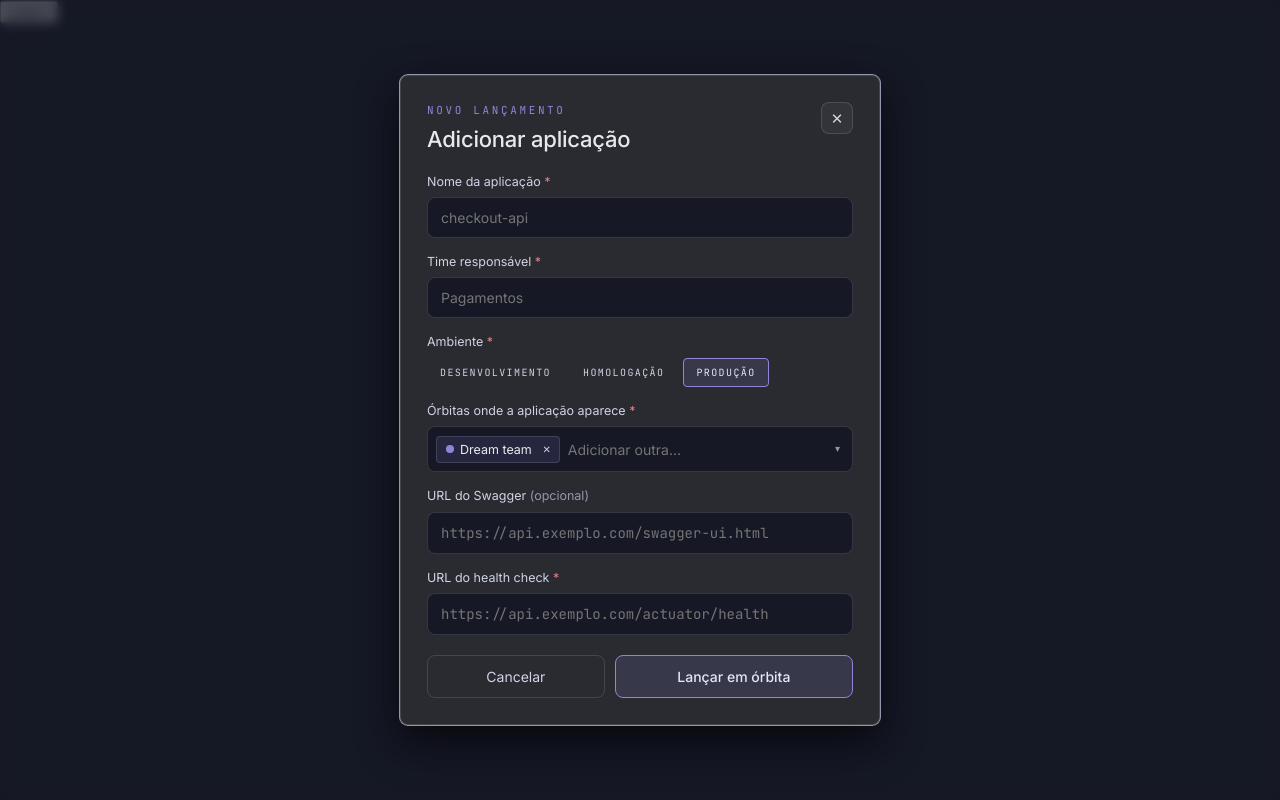
Test case: AppFormDialog: órbitas › o ✕ do chip tira a órbita
Click the button named "Remover órbita". click: (547, 449)
box: [538,440,556,458]
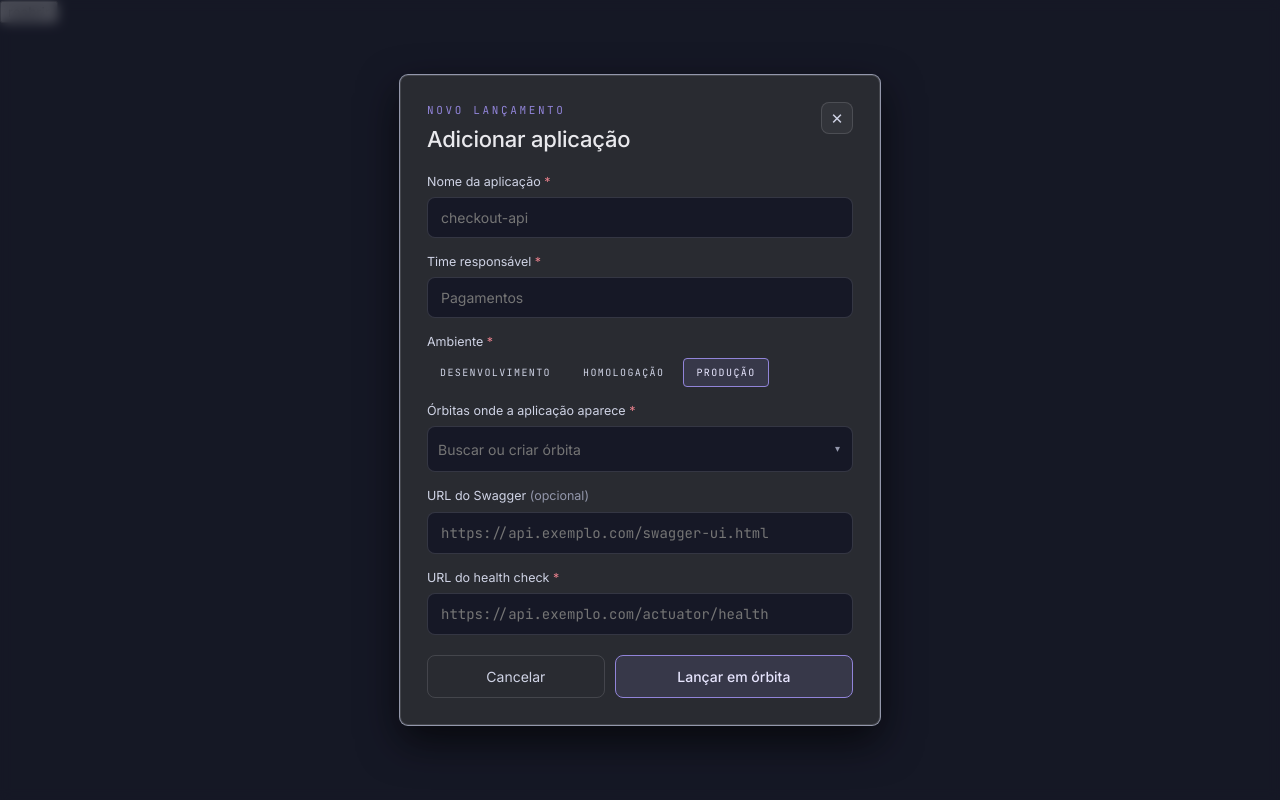
Check: the text "Dream team" is gone
